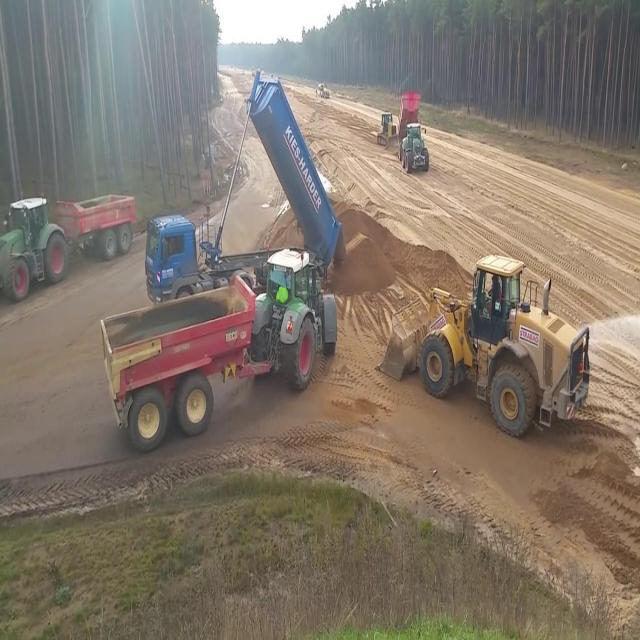Dump Truck: (144, 69, 344, 303), (100, 247, 318, 449), (0, 190, 134, 303), (396, 92, 430, 176)
Loader: (374, 251, 593, 441), (376, 107, 397, 149)
